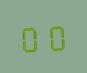zero: (19, 21, 42, 53), (43, 20, 66, 51)
